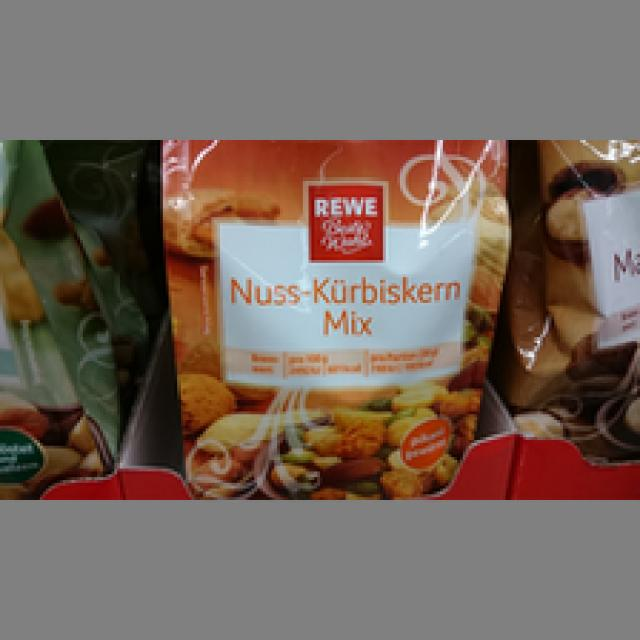groceries: (154, 137, 512, 494)
